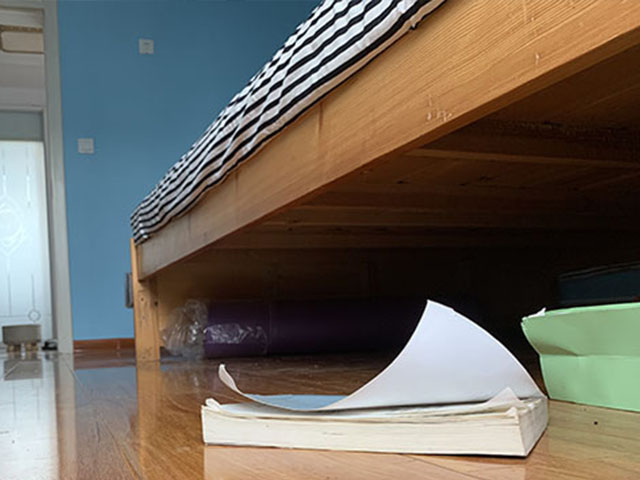bed: (124, 1, 640, 365)
book: (203, 301, 554, 457)
stool: (1, 320, 44, 360)
